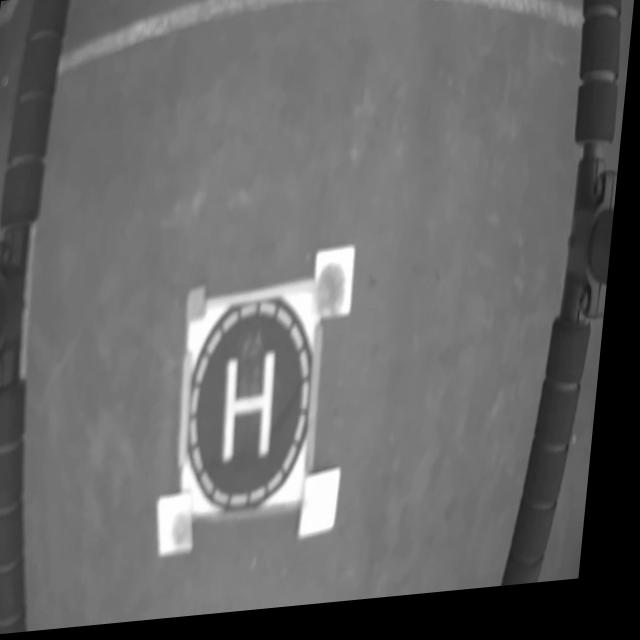Helipad: (229, 354, 282, 469)
